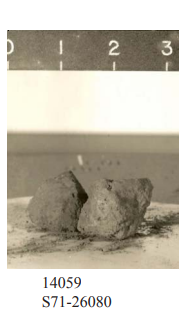Breccia: (31, 159, 152, 237)
